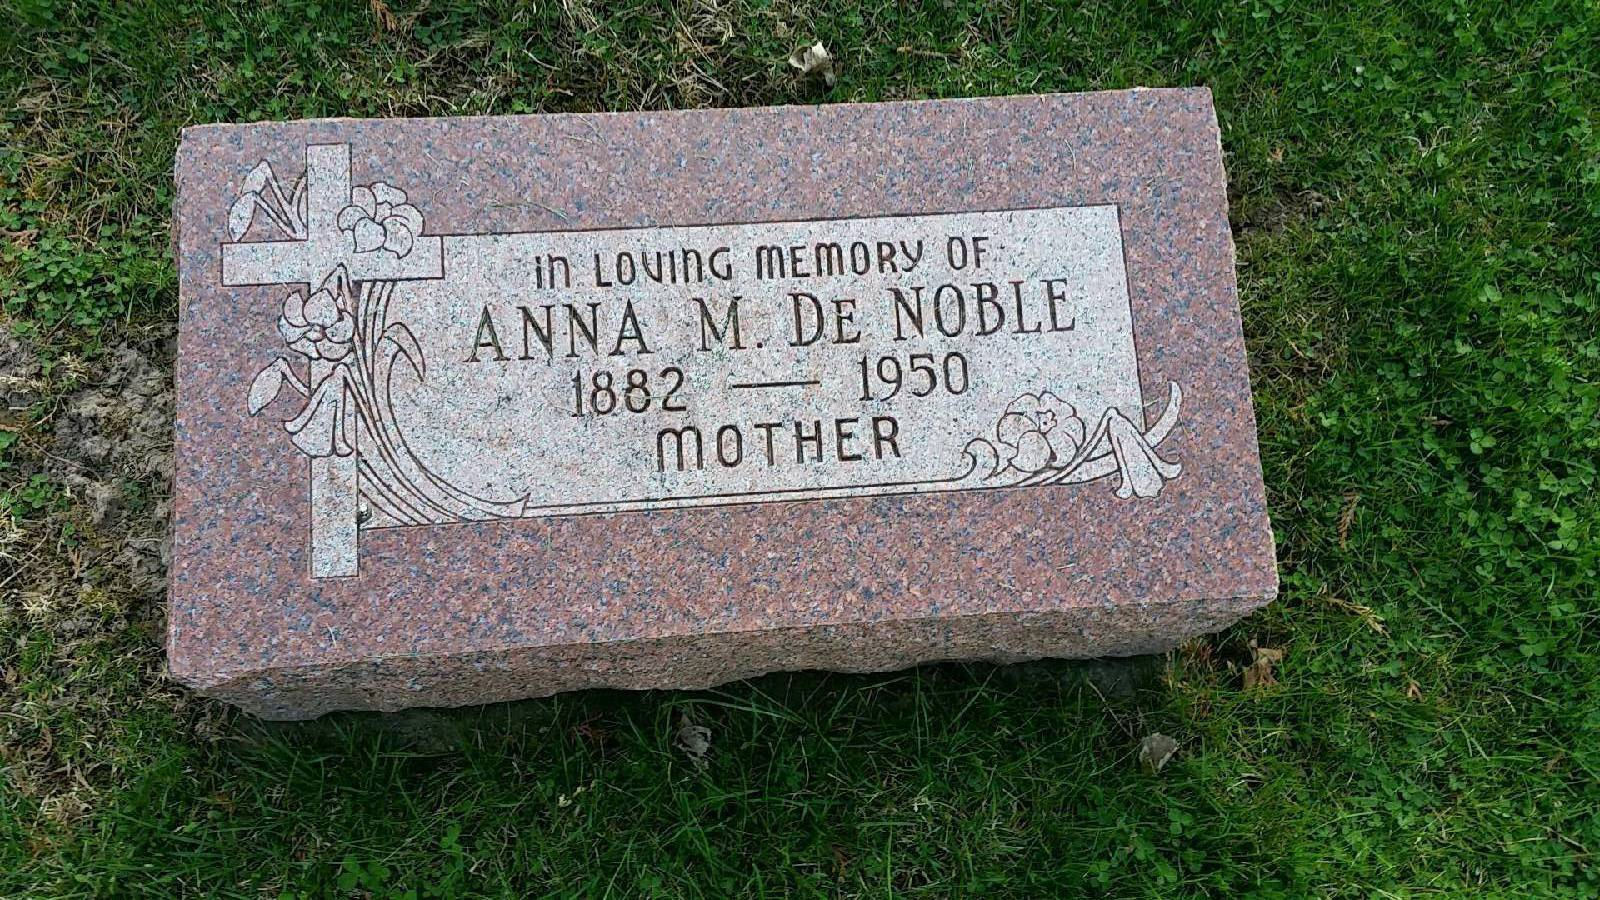flat: (157, 74, 1295, 718)
